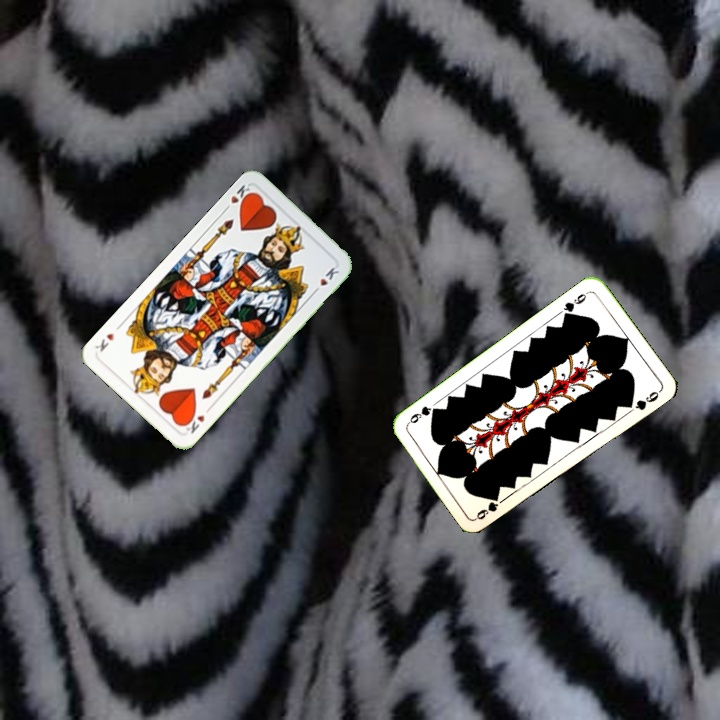G9: (559, 287, 592, 320), (472, 494, 508, 522)
HK: (220, 180, 256, 214), (180, 409, 207, 436)
